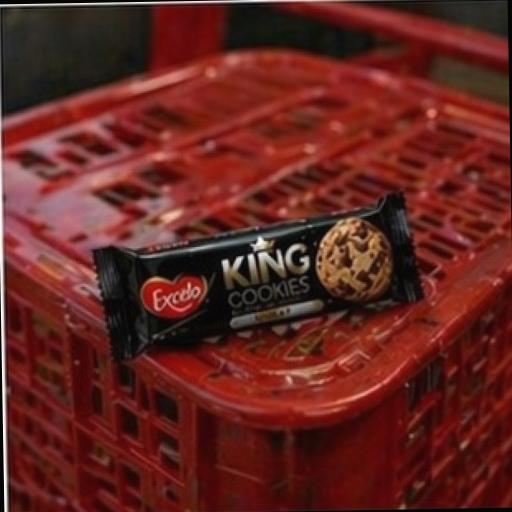king-cooking: (52, 174, 487, 411)
